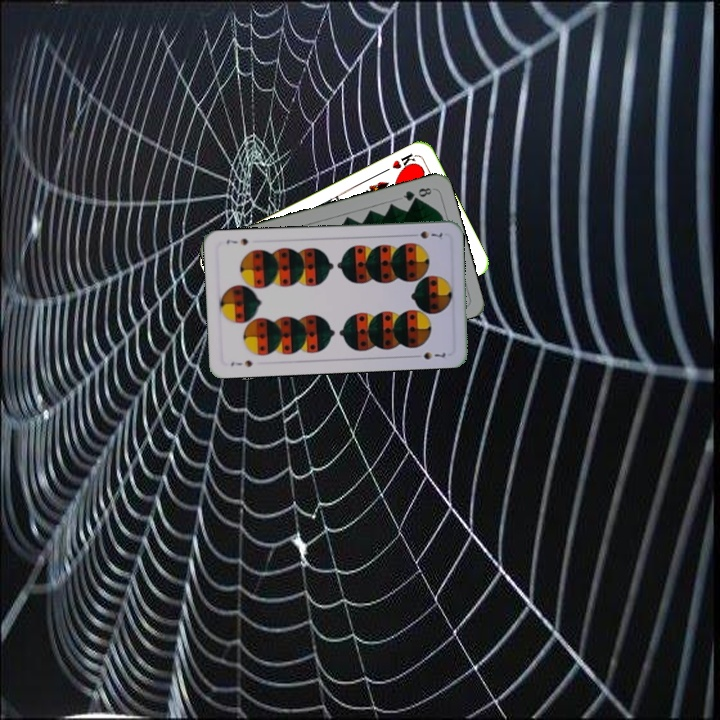G8: (399, 183, 434, 204)
HK: (381, 149, 420, 175)
S7: (406, 227, 445, 241), (227, 356, 254, 370)
